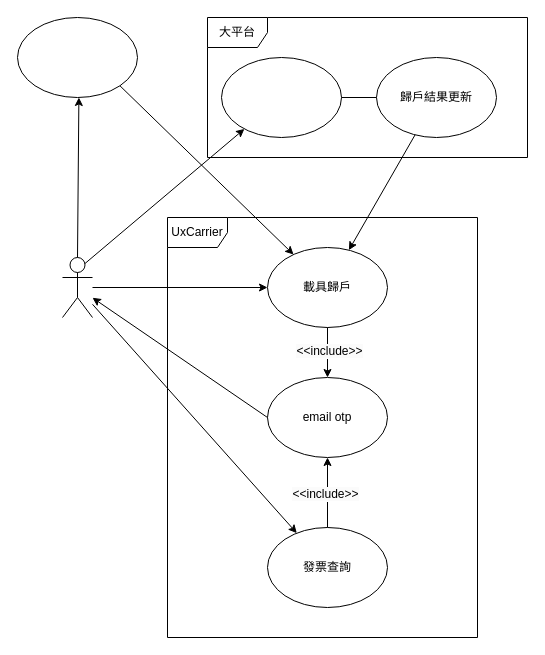
Image size: 545x655. Some labels were removed from this diagram. Here are the shapes that lost their labels. From the top down, the centre of each, then its label:
At point 77,57: "電子發票 開立通知 email 歸戶Link".
At point 281,97: "身份認證".
At point 77,287: "Uxb2b發票客戶".
